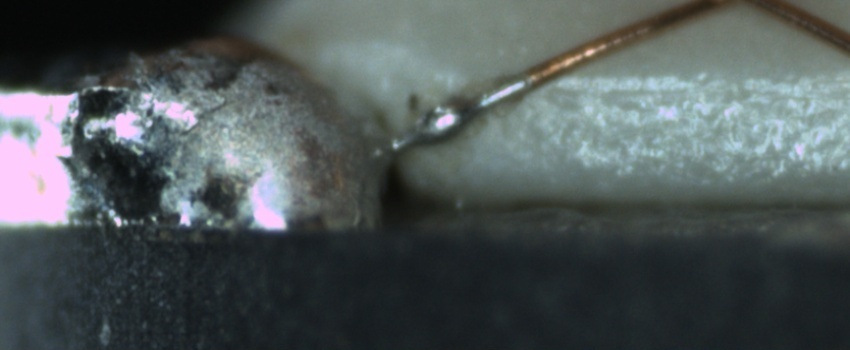CL: (698, 0, 790, 10)
DL: (535, 61, 849, 125)
TB: (408, 93, 467, 149)
TS: (389, 76, 532, 155)
TTCW: (389, 46, 578, 152)
